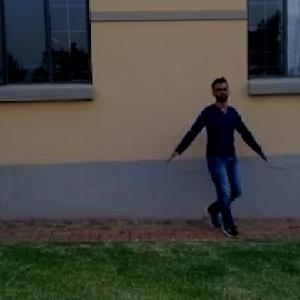land: (159, 81, 264, 242)
